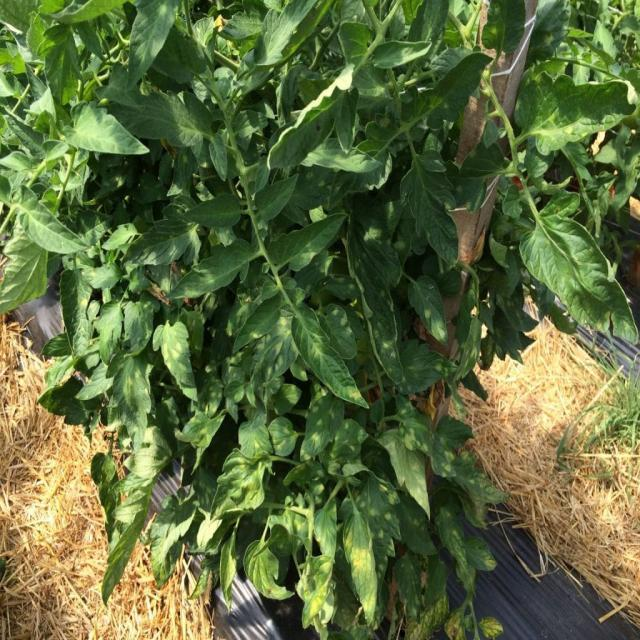Mosaic Virus: (400, 401, 456, 479), (340, 508, 382, 598), (299, 396, 338, 460), (252, 331, 292, 384), (156, 326, 190, 381), (331, 418, 366, 458), (268, 420, 298, 458), (202, 372, 223, 420), (420, 301, 445, 341)
